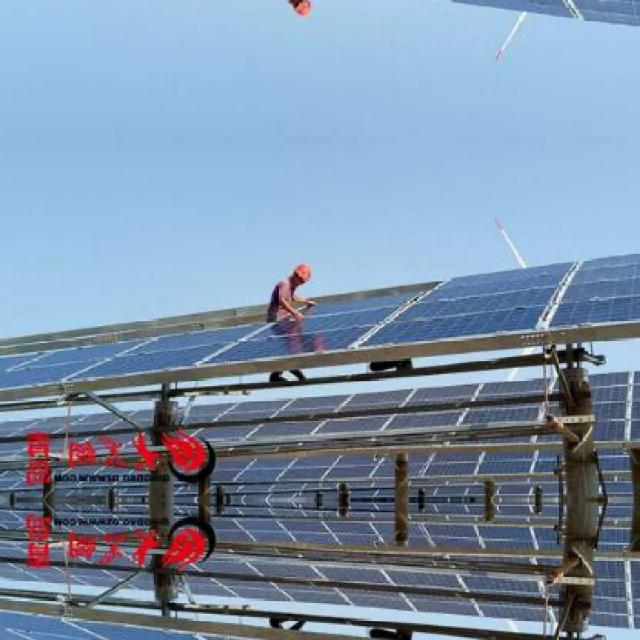helmet: (291, 260, 315, 286), (290, 0, 316, 18)
